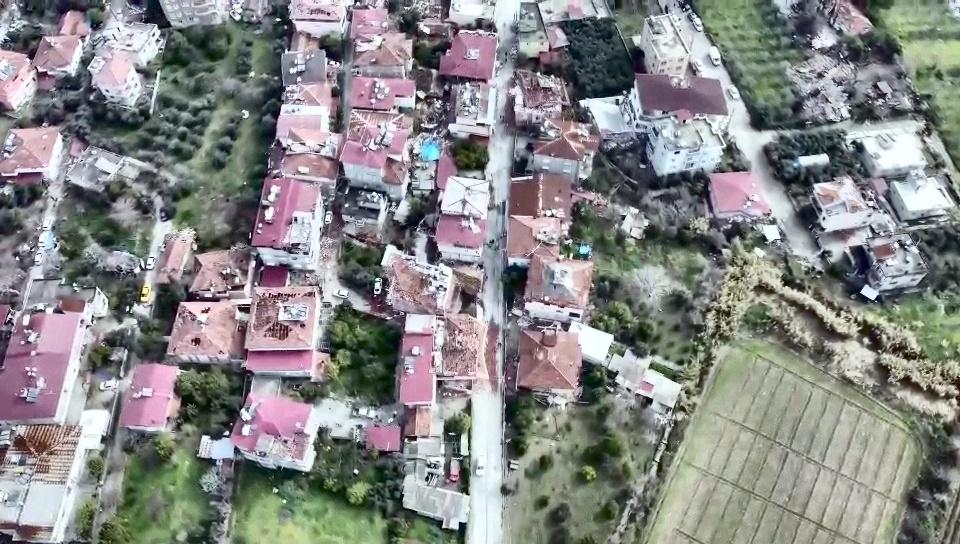kapali: (471, 307, 503, 407)
